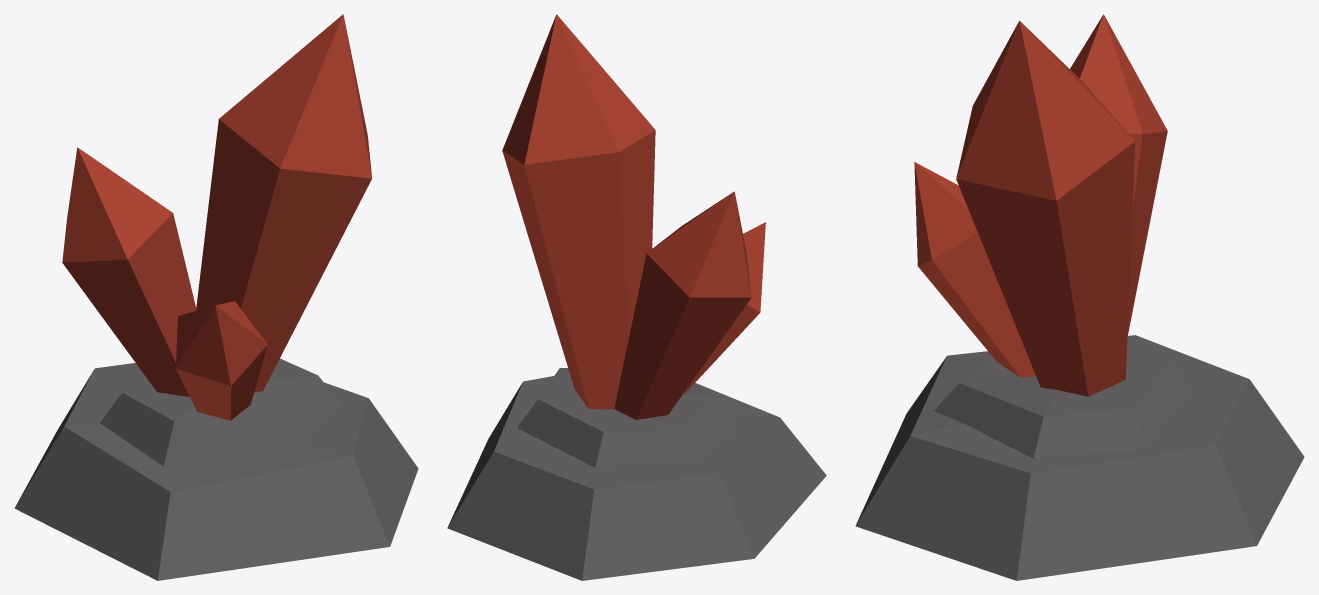
File: SM_Env_Dungeon_Crystal_01.glb
3 renders of one model, left to right at view 1: azimuth 30°, elevation 25°; view 2: azimuth 150°, elevation 25°; view 3: azimuth 270°, elevation 25°, orthographic. The views are drawn at different scales.
Visible parts, largest first — view 1: SM_Env_Dungeon_Crystal_01; view 2: SM_Env_Dungeon_Crystal_01; view 3: SM_Env_Dungeon_Crystal_01.
Part boxes in pixels (<box>): SM_Env_Dungeon_Crystal_01: <box>14,14,418,580</box>; SM_Env_Dungeon_Crystal_01: <box>447,14,826,580</box>; SM_Env_Dungeon_Crystal_01: <box>855,14,1304,580</box>.
Bounding box in the file's own units: 0.5624 × 0.8026 × 0.5764.
1 material, 1 textured.
